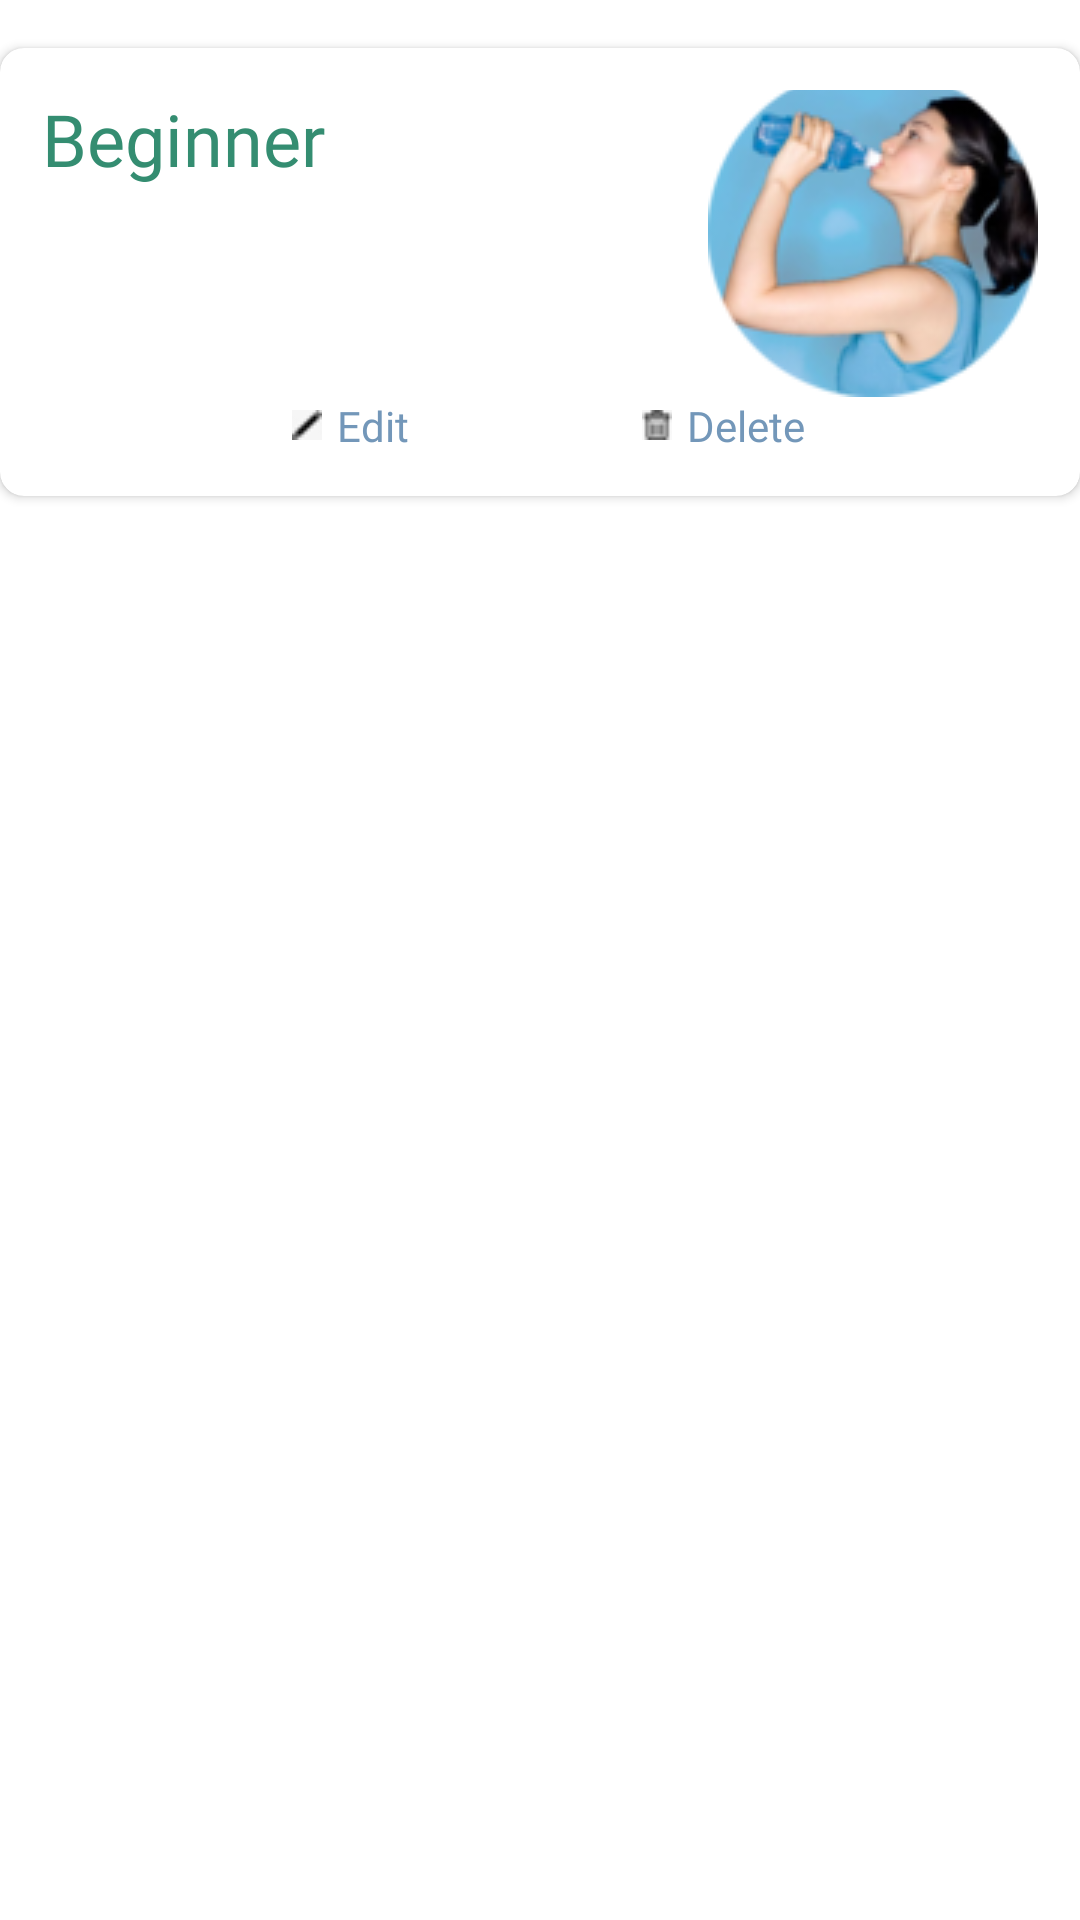

Locate icon controls on the screen. Image size 1080x1920, boxes as bbox(x1, y1, x2, y2).
waterplans: bbox(708, 90, 1038, 397)
